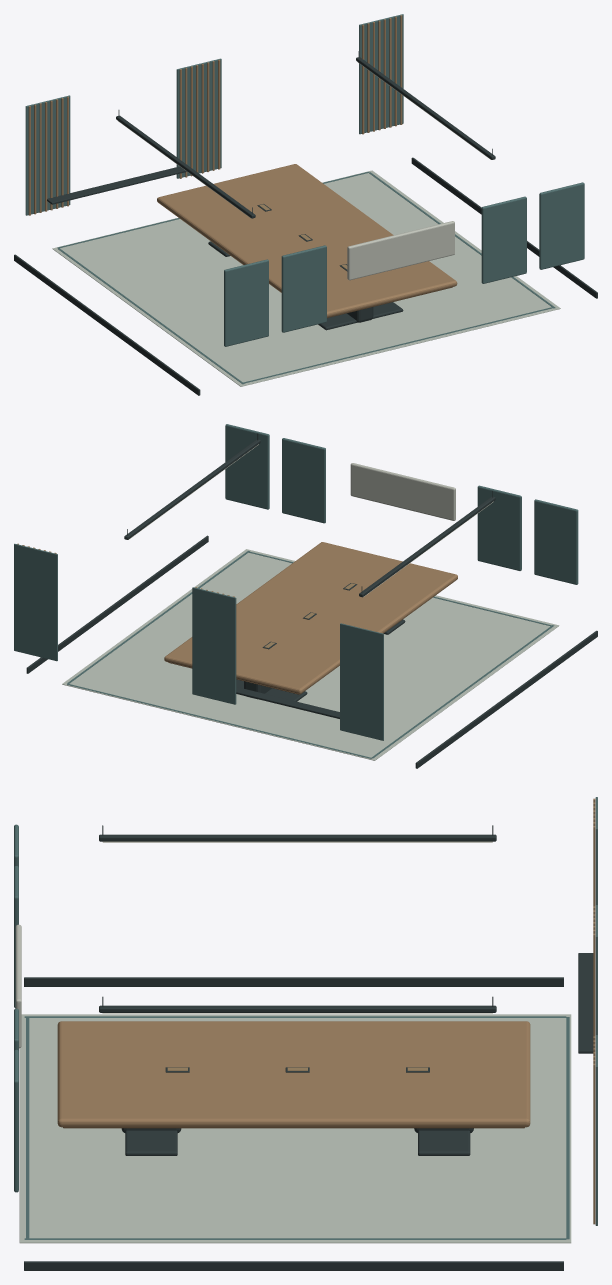
File: meeting-finish.glb
The picture shows the model from 3 angles, top to bottom: view 1: azimuth 30°, elevation 25°; view 2: azimuth 150°, elevation 25°; view 3: azimuth 270°, elevation 25°; orthographic projection. The views are drawn at different scales.
Parts seen in each view (by area): view 1: COMMONS_StaticMaterialGroups; view 2: COMMONS_StaticMaterialGroups; view 3: COMMONS_StaticMaterialGroups.
Boxes of the visible parts, <box> form: COMMONS_StaticMaterialGroups: <box>14,14,597,395</box>; COMMONS_StaticMaterialGroups: <box>14,424,597,768</box>; COMMONS_StaticMaterialGroups: <box>14,797,597,1270</box>.
Size of the model in its own units: 9.02 by 3.21 by 7.78.
